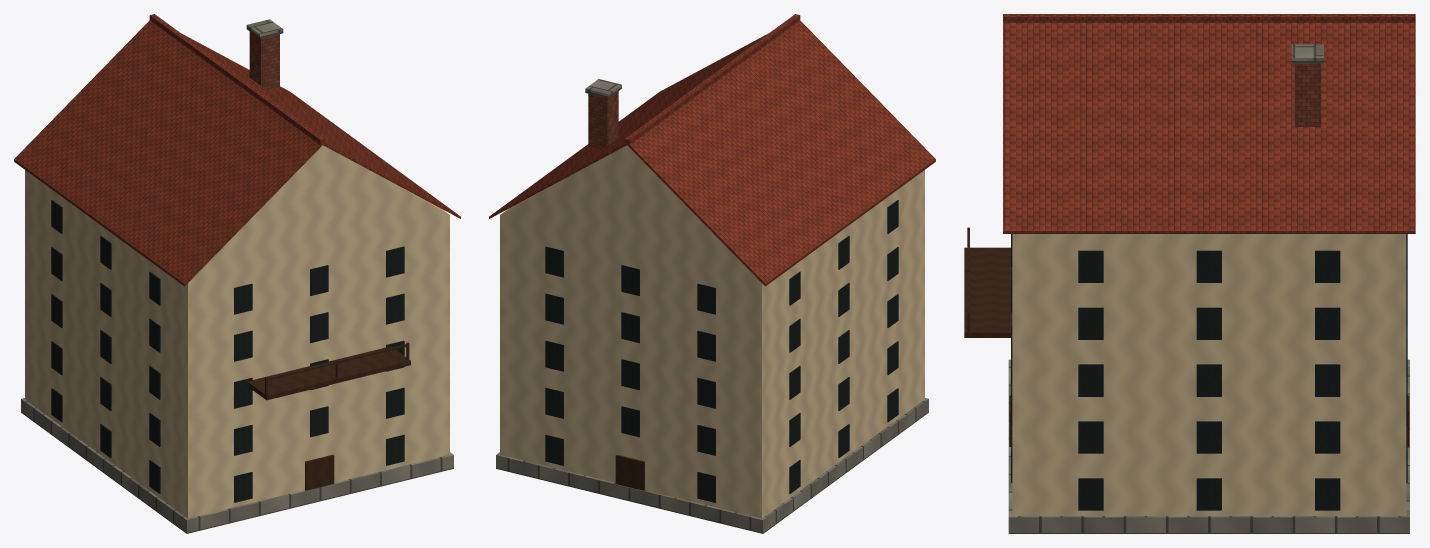
File: SG_House_F_Guild_LOD2.fbx
3 renders of one model, left to right at view 1: azimuth 30°, elevation 25°; view 2: azimuth 150°, elevation 25°; view 3: azimuth 270°, elevation 25°, orthographic. The views are drawn at different scales.
Visible parts, largest first — view 1: SG_House_F_Guild_Detail2; view 2: SG_House_F_Guild_Detail2; view 3: SG_House_F_Guild_Detail2.
Boxes of the visible parts, x1,y1,x2,y2 form: SG_House_F_Guild_Detail2: [14, 14, 460, 533]; SG_House_F_Guild_Detail2: [489, 14, 935, 533]; SG_House_F_Guild_Detail2: [964, 14, 1415, 533].
Bounding box in the file's own units: 27.4 × 34.8 × 32.05.
